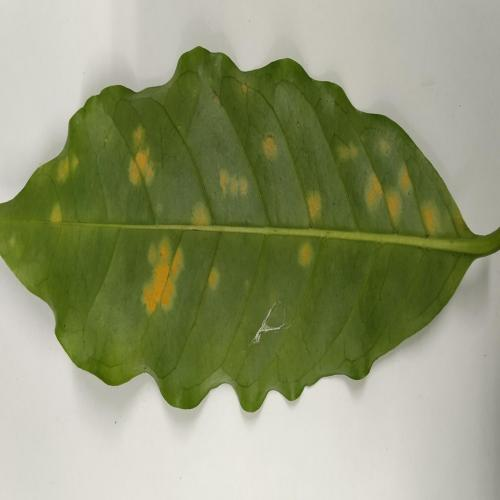leaf: (0, 28, 500, 423)
rust: (132, 230, 194, 320), (115, 122, 159, 194), (216, 163, 253, 201), (326, 134, 362, 172), (361, 171, 389, 215), (417, 198, 445, 241), (301, 184, 331, 224), (51, 149, 82, 184), (384, 183, 406, 232), (391, 161, 417, 200), (292, 233, 317, 272), (191, 198, 216, 234), (45, 194, 69, 228), (260, 132, 282, 163), (206, 260, 223, 295)
